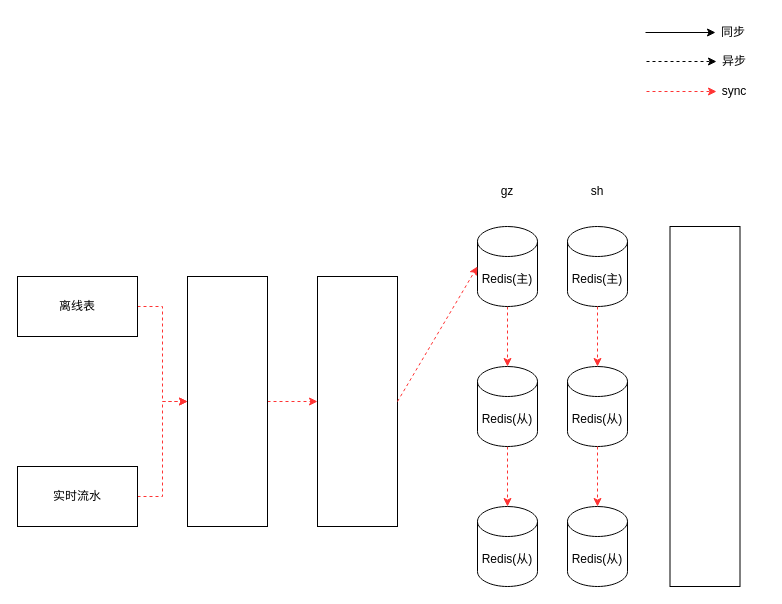
The diagram is 782 pixels wide and 604 high, and some of its shapes have lost their labels. Each missing label, with the centre of its shape:
"ETL模块" belongs at [227,401].
"Sink模块" belongs at [357,401].
"统一Client" belongs at [704,406].
